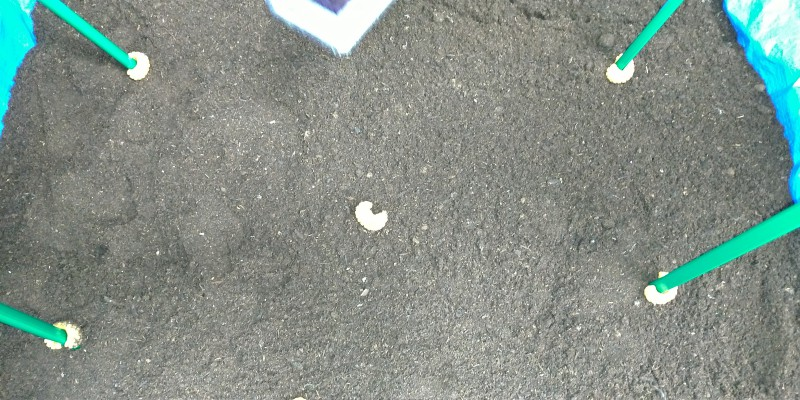eggs: (639, 265, 681, 308), (41, 317, 85, 355), (116, 47, 155, 85), (351, 199, 390, 234), (601, 49, 637, 86)
